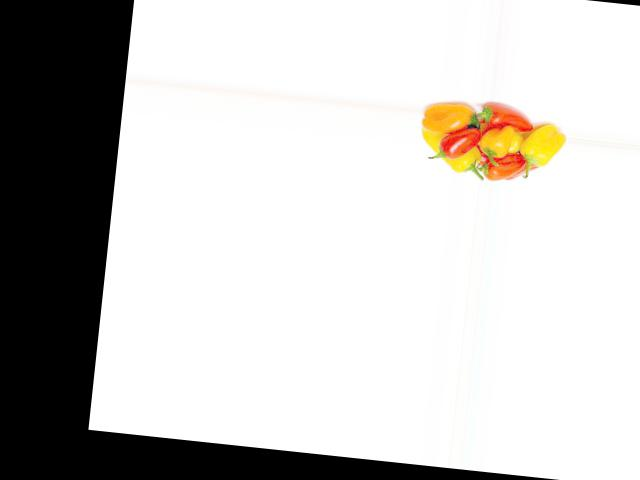bell_pepper: (418, 128, 483, 178)
